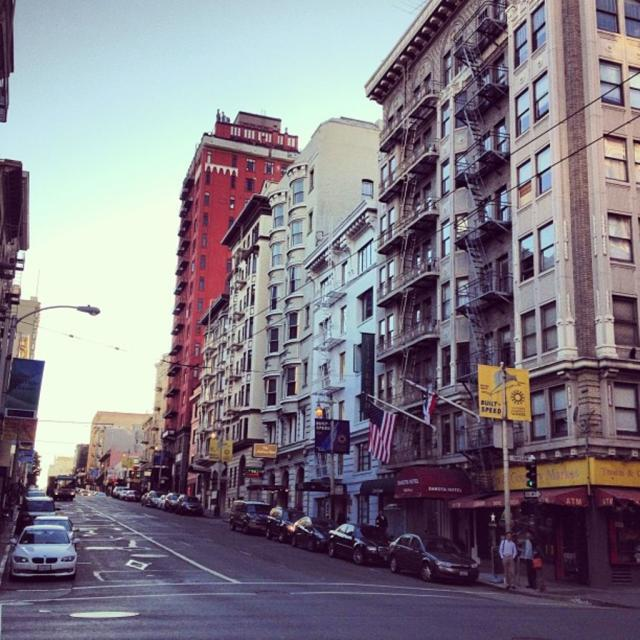car: (3, 517, 76, 577)
